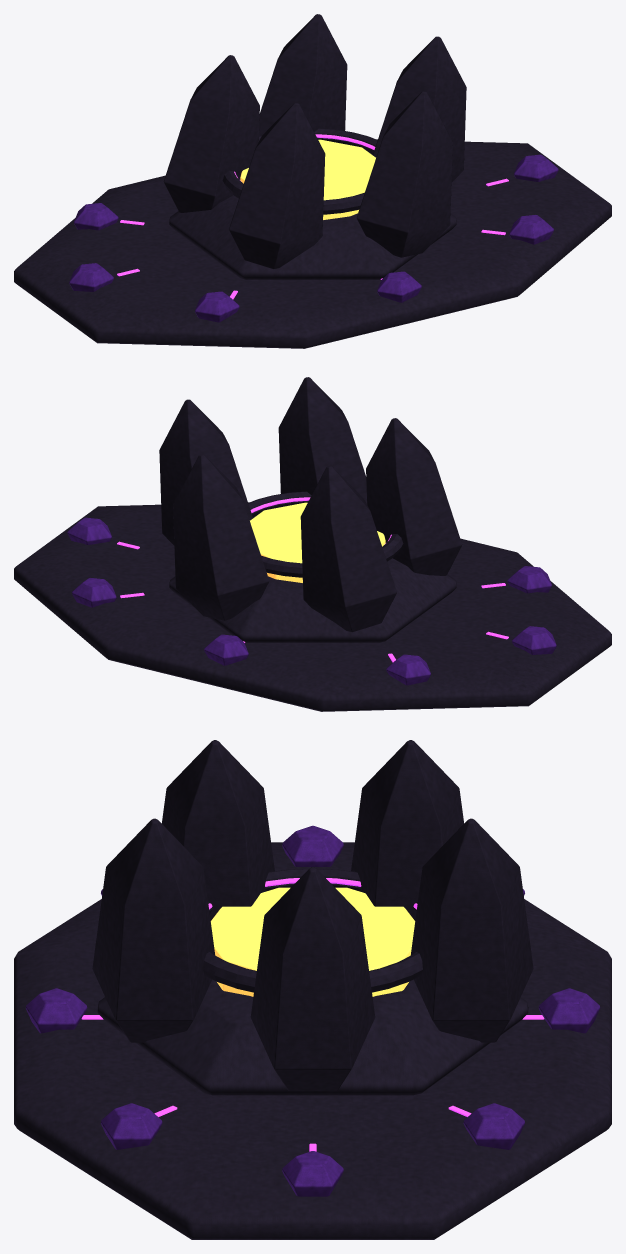
The model's file is conclave_creuset_d_obsidienne.gltf.
3 views of the same model, one above another, from view 1: azimuth 30°, elevation 25°; view 2: azimuth 150°, elevation 25°; view 3: azimuth 270°, elevation 25° (orthographic). The views are drawn at different scales.
Visible parts, largest first — view 1: Root.003_Geometry; view 2: Root.003_Geometry; view 3: Root.003_Geometry.
Boxes of the visible parts, x1,y1,x2,y2 form: Root.003_Geometry: (14, 14, 611, 348); Root.003_Geometry: (14, 377, 611, 711); Root.003_Geometry: (14, 740, 611, 1239).
Bounding box in the file's own units: 5.88 × 1.99 × 3.92.
Materials: 4 (2 with a texture image).
